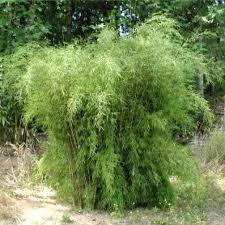bamboo: (16, 27, 210, 207)
